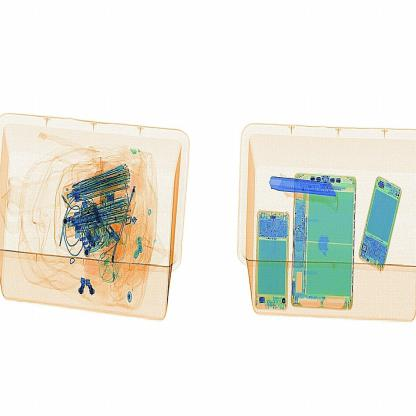pliers: (264, 172, 336, 202)
